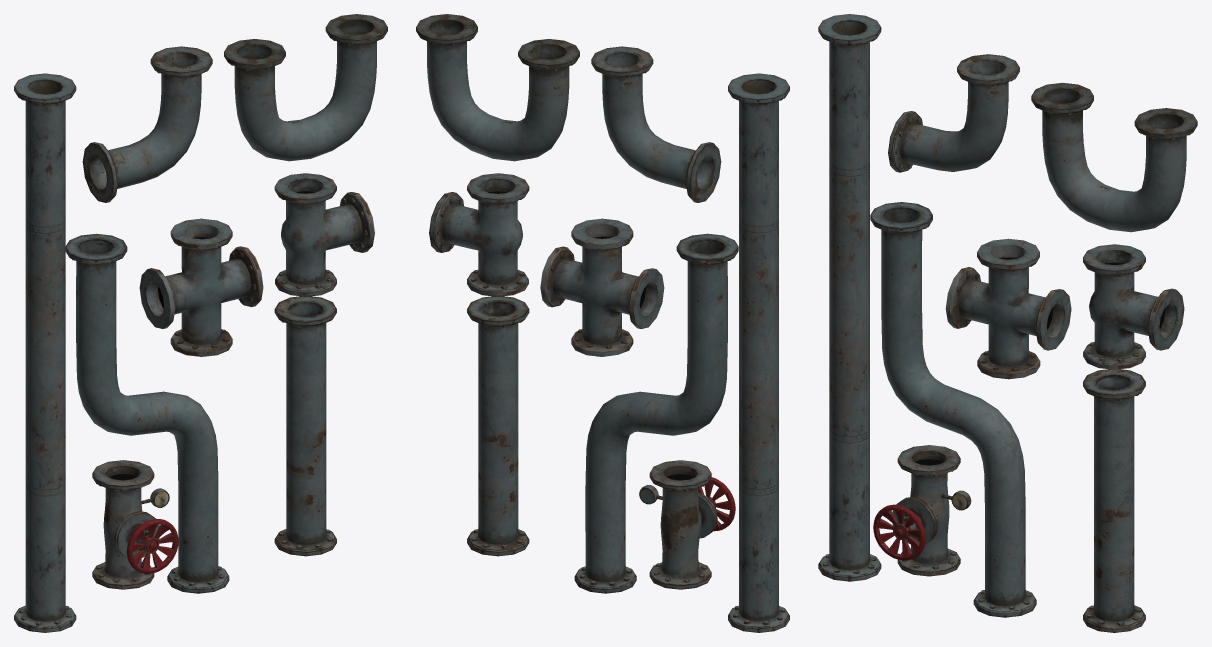
File: modular_industrial_pipes_01_1k.glb
The picture shows the model from 3 angles, left to right: view 1: azimuth 30°, elevation 25°; view 2: azimuth 150°, elevation 25°; view 3: azimuth 330°, elevation 25°; orthographic projection.
Parts seen in each view (by area): view 1: modular_industrial_pipes_01_pipe02, modular_industrial_pipes_01_pipe03, modular_industrial_pipes_01_pipe05, modular_industrial_pipes_01_pipe01, modular_industrial_pipes_01_pipe07, modular_industrial_pipes_01_pipe04, modular_industrial_pipes_01_pipe06, modular_industrial_pipes_01_pipe08; view 2: modular_industrial_pipes_01_pipe02, modular_industrial_pipes_01_pipe03, modular_industrial_pipes_01_pipe05, modular_industrial_pipes_01_pipe01, modular_industrial_pipes_01_pipe07, modular_industrial_pipes_01_pipe04, modular_industrial_pipes_01_pipe06, modular_industrial_pipes_01_pipe08; view 3: modular_industrial_pipes_01_pipe02, modular_industrial_pipes_01_pipe03, modular_industrial_pipes_01_pipe05, modular_industrial_pipes_01_pipe01, modular_industrial_pipes_01_pipe07, modular_industrial_pipes_01_pipe06, modular_industrial_pipes_01_pipe04, modular_industrial_pipes_01_pipe08.
Boxes of the visible parts, x1=… form: modular_industrial_pipes_01_pipe02: x1=14, y1=73, x2=76, y2=632; modular_industrial_pipes_01_pipe03: x1=65, y1=233, x2=229, y2=593; modular_industrial_pipes_01_pipe05: x1=224, y1=14, x2=387, y2=161; modular_industrial_pipes_01_pipe01: x1=274, y1=296, x2=336, y2=556; modular_industrial_pipes_01_pipe07: x1=139, y1=218, x2=263, y2=356; modular_industrial_pipes_01_pipe04: x1=82, y1=46, x2=212, y2=202; modular_industrial_pipes_01_pipe06: x1=274, y1=173, x2=374, y2=296; modular_industrial_pipes_01_pipe08: x1=92, y1=460, x2=178, y2=589; modular_industrial_pipes_01_pipe02: x1=728, y1=73, x2=789, y2=632; modular_industrial_pipes_01_pipe03: x1=574, y1=233, x2=738, y2=593; modular_industrial_pipes_01_pipe05: x1=416, y1=14, x2=579, y2=161; modular_industrial_pipes_01_pipe01: x1=467, y1=296, x2=529, y2=556; modular_industrial_pipes_01_pipe07: x1=540, y1=218, x2=664, y2=356; modular_industrial_pipes_01_pipe04: x1=591, y1=46, x2=721, y2=202; modular_industrial_pipes_01_pipe06: x1=429, y1=173, x2=529, y2=296; modular_industrial_pipes_01_pipe08: x1=639, y1=460, x2=735, y2=589; modular_industrial_pipes_01_pipe02: x1=818, y1=14, x2=881, y2=581; modular_industrial_pipes_01_pipe03: x1=870, y1=202, x2=1036, y2=617; modular_industrial_pipes_01_pipe05: x1=1031, y1=82, x2=1197, y2=232; modular_industrial_pipes_01_pipe01: x1=1083, y1=369, x2=1145, y2=632; modular_industrial_pipes_01_pipe07: x1=945, y1=238, x2=1071, y2=379; modular_industrial_pipes_01_pipe06: x1=1083, y1=244, x2=1184, y2=369; modular_industrial_pipes_01_pipe04: x1=888, y1=54, x2=1019, y2=172; modular_industrial_pipes_01_pipe08: x1=873, y1=445, x2=971, y2=576.
Size of the model in its own units: 1.4 by 1.95 by 0.3076.
2 materials, 2 textured.
